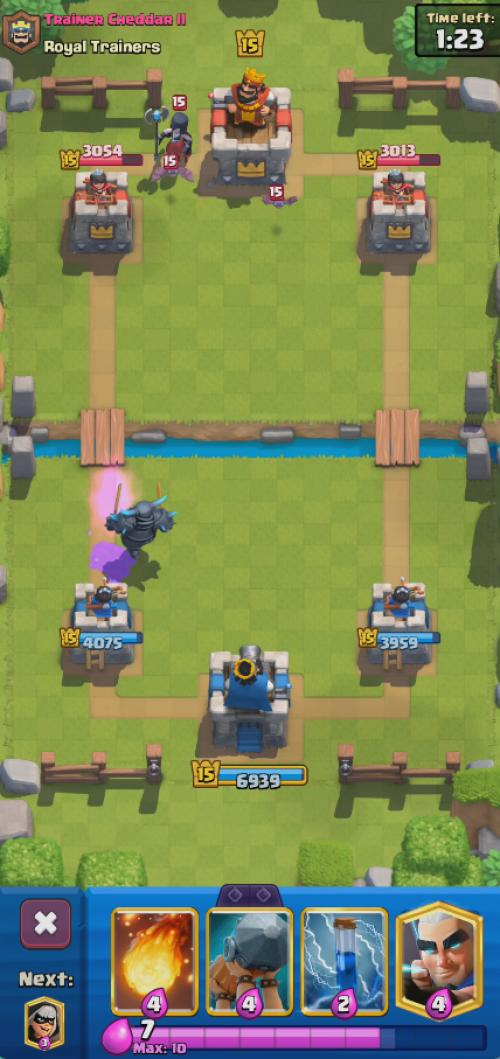Enemy-Bat: (262, 186, 297, 208), (152, 166, 193, 181)
Enemy-KingTower: (210, 68, 291, 189)
Enemy-NightWitch: (145, 108, 191, 178)
Enemy-PrincessTower: (69, 169, 132, 253), (367, 169, 429, 254)
